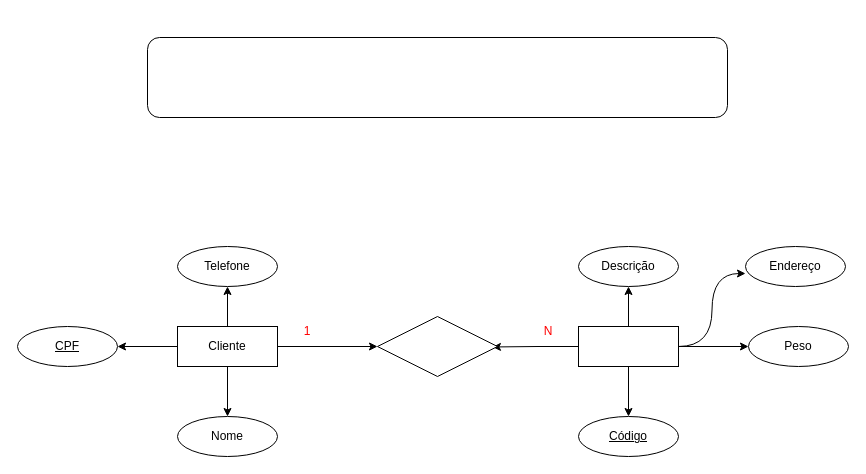
Some shapes in this 866 by 474 pixel diagram are drawn without their labels. Each missing label, with the box of its shape:
Diagrama - Exercício 5, Slide 2: (146, 36, 728, 118)
Encomendas: (578, 326, 678, 366)
Realiza: (376, 316, 498, 376)
